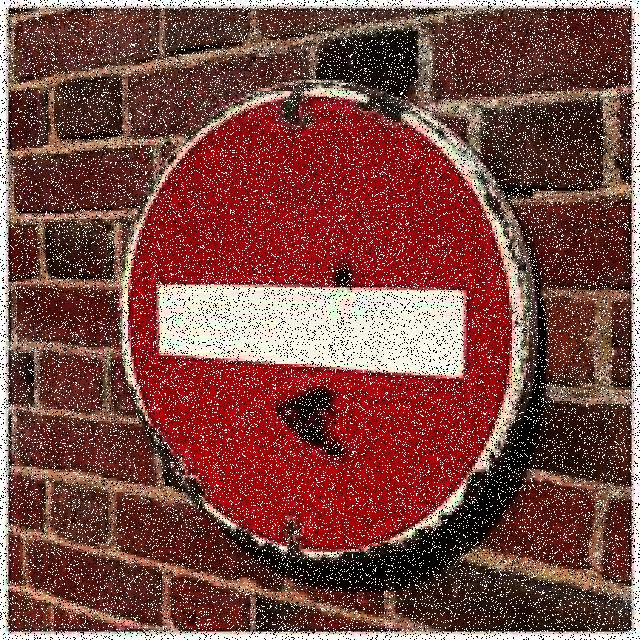no entry: (131, 94, 512, 549)
